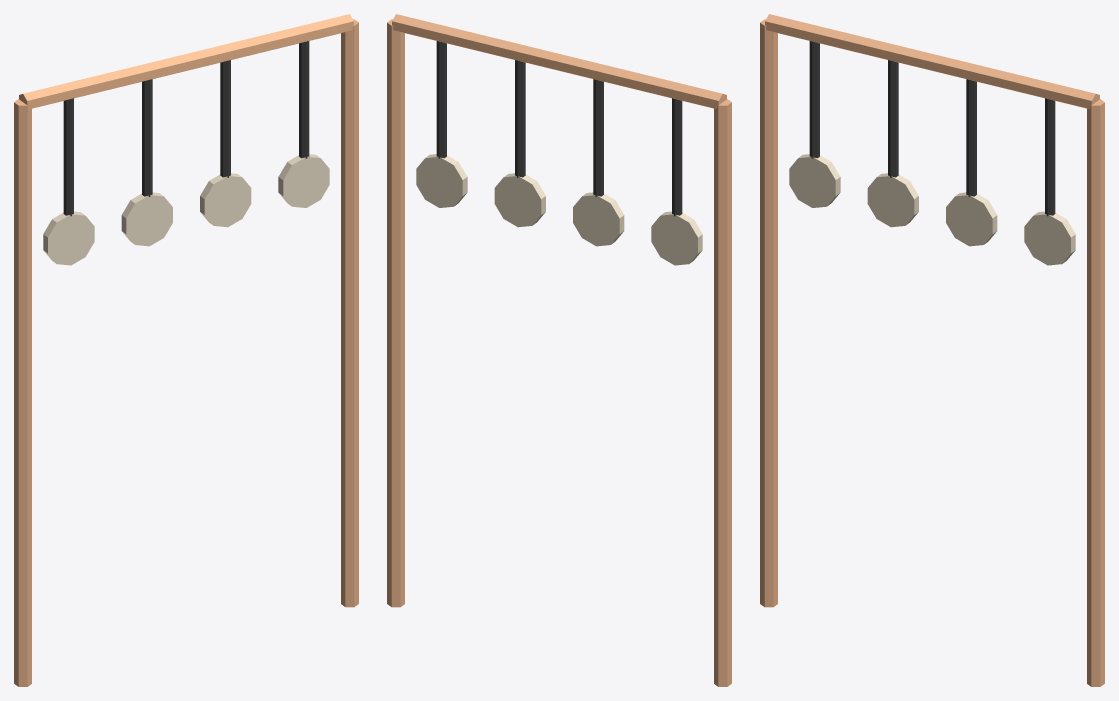
The picture shows the model from 3 angles, left to right: view 1: azimuth 30°, elevation 25°; view 2: azimuth 150°, elevation 25°; view 3: azimuth 330°, elevation 25°; orthographic projection.
Visible parts, largest first — view 1: Post, Post.001, Crossbar, Utensil head, Utensil head.002, Utensil head.001, Utensil head.003, Utensil grip.001, Utensil grip.003, Utensil grip, Utensil grip.002; view 2: Post, Post.001, Crossbar, Utensil head, Utensil head.002, Utensil head.001, Utensil head.003, Utensil grip.001, Utensil grip.003, Utensil grip, Utensil grip.002; view 3: Post.001, Post, Crossbar, Utensil head.003, Utensil head.001, Utensil head, Utensil head.002, Utensil grip, Utensil grip.002, Utensil grip.003, Utensil grip.001.
Part boxes in pixels (x1,y1,x2,y2): Post: (14, 99, 31, 686); Post.001: (341, 19, 358, 607); Crossbar: (19, 14, 353, 108); Utensil head: (43, 211, 94, 265); Utensil head.002: (200, 173, 251, 227); Utensil head.001: (121, 192, 172, 246); Utensil head.003: (278, 154, 329, 207); Utensil grip.001: (142, 79, 152, 196); Utensil grip.003: (299, 41, 309, 158); Utensil grip: (63, 98, 73, 216); Utensil grip.002: (220, 60, 230, 177); Post: (714, 99, 731, 686); Post.001: (387, 19, 404, 607); Crossbar: (392, 14, 726, 108); Utensil head: (651, 211, 702, 265); Utensil head.002: (494, 173, 545, 227); Utensil head.001: (573, 192, 624, 246); Utensil head.003: (416, 154, 467, 207); Utensil grip.001: (593, 79, 603, 196); Utensil grip.003: (436, 41, 446, 158); Utensil grip: (672, 98, 682, 216); Utensil grip.002: (515, 60, 525, 177); Post.001: (1087, 99, 1104, 686); Post: (760, 19, 777, 607); Crossbar: (765, 14, 1099, 108); Utensil head.003: (1024, 211, 1075, 265); Utensil head.001: (867, 173, 918, 227); Utensil head: (789, 154, 840, 207); Utensil head.002: (946, 192, 997, 246); Utensil grip: (809, 41, 819, 158); Utensil grip.002: (966, 79, 976, 196); Utensil grip.003: (1045, 98, 1055, 216); Utensil grip.001: (888, 60, 898, 177).
Bounding box in the file's own units: 104 × 173 × 4.8.
